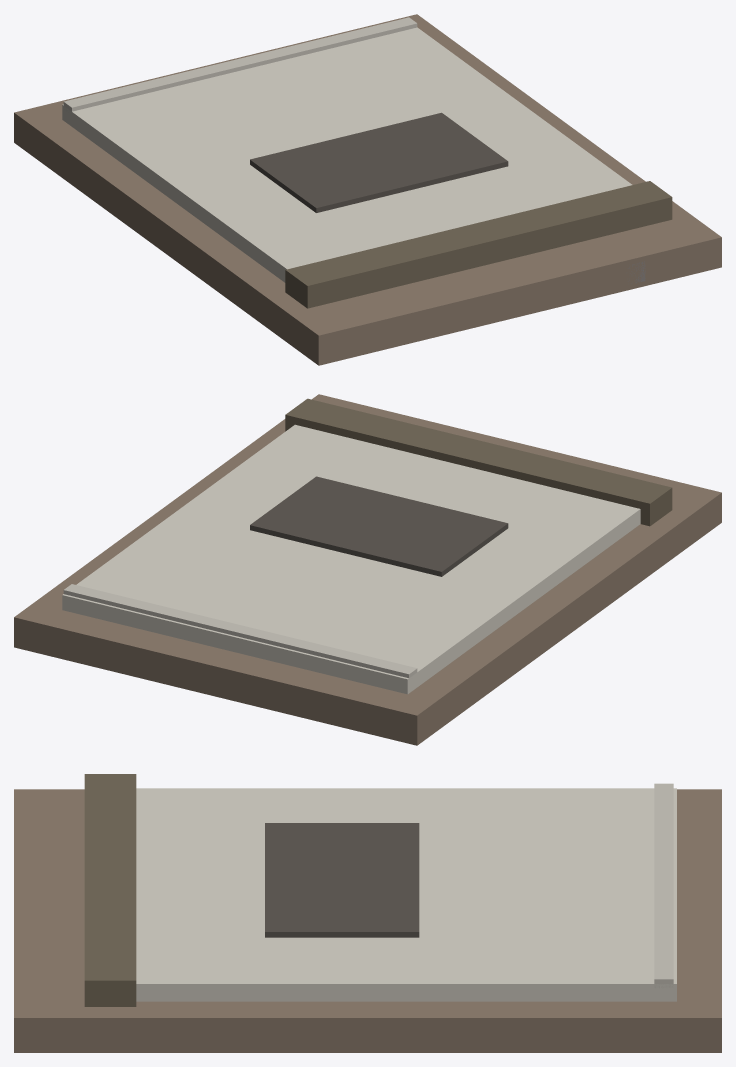
File: calendar.glb
3 views of the same model, one above another, from view 1: azimuth 30°, elevation 25°; view 2: azimuth 150°, elevation 25°; view 3: azimuth 270°, elevation 25° (orthographic). The views are drawn at different scales.
Visible parts, largest first — view 1: calendar_pages, calendar_board, calendar_binder, calendar_dateblock, calendar_tear; view 2: calendar_pages, calendar_board, calendar_dateblock, calendar_binder, calendar_tear; view 3: calendar_pages, calendar_board, calendar_dateblock, calendar_binder, calendar_tear.
Boxes of the visible parts, x1,y1,x2,y2 form: calendar_pages: [62, 27, 632, 282]; calendar_board: [14, 14, 721, 365]; calendar_binder: [285, 181, 672, 308]; calendar_dateblock: [250, 112, 508, 212]; calendar_tear: [63, 17, 417, 112]; calendar_pages: [62, 424, 640, 694]; calendar_board: [14, 394, 721, 745]; calendar_dateblock: [250, 476, 508, 576]; calendar_binder: [285, 398, 672, 526]; calendar_tear: [63, 584, 417, 678]; calendar_pages: [136, 788, 676, 1001]; calendar_board: [14, 789, 721, 1052]; calendar_dateblock: [265, 823, 419, 937]; calendar_binder: [84, 774, 136, 1006]; calendar_tear: [654, 783, 673, 988].
Bounding box in the file's own units: 0.42 × 0.0525 × 0.55.
